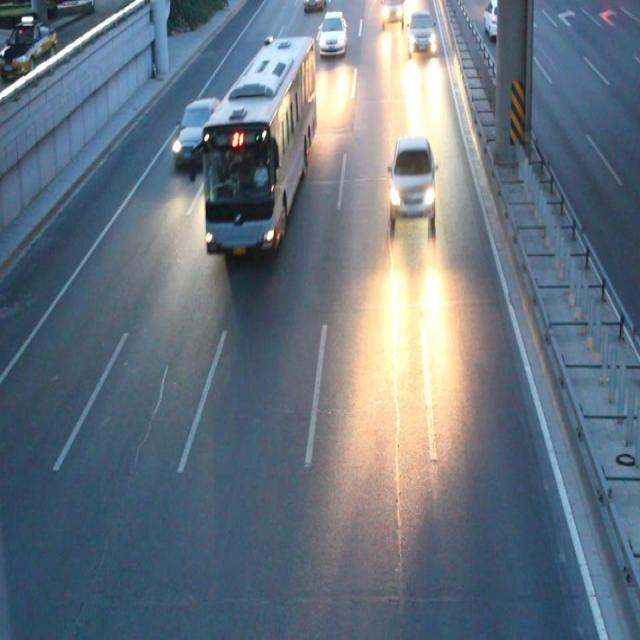car: (388, 140, 434, 223), (174, 98, 220, 168), (317, 10, 346, 54), (406, 14, 436, 54), (483, 1, 510, 37), (380, 1, 402, 24), (304, 1, 324, 11)
van: (202, 36, 317, 263)
